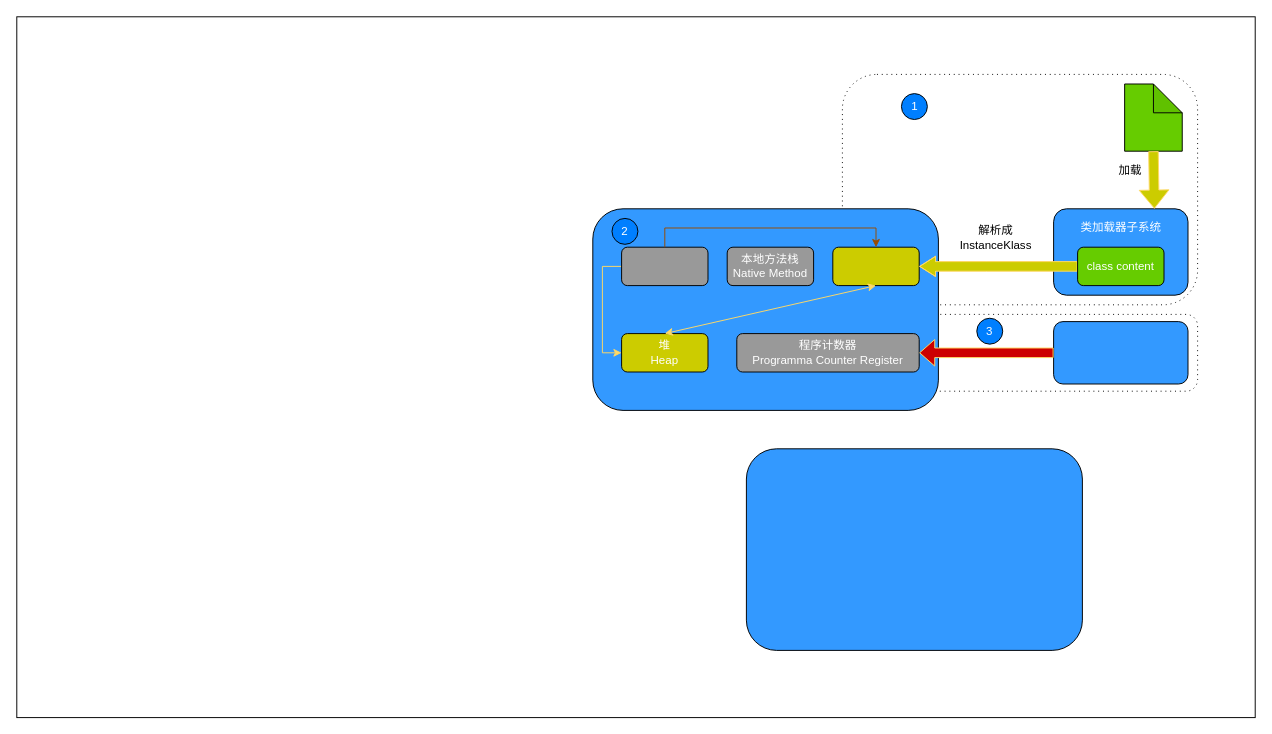
Image size: 1272x734. Some labels were removed from this diagram. The centre of each missing label's shape, as x and y in pixels:
.class 文件: pixel 1153 117
执行引擎: pixel 1120 352
方法区 Method Area: pixel 875 266
虚拟机栈 VM Stack: pixel 664 266
